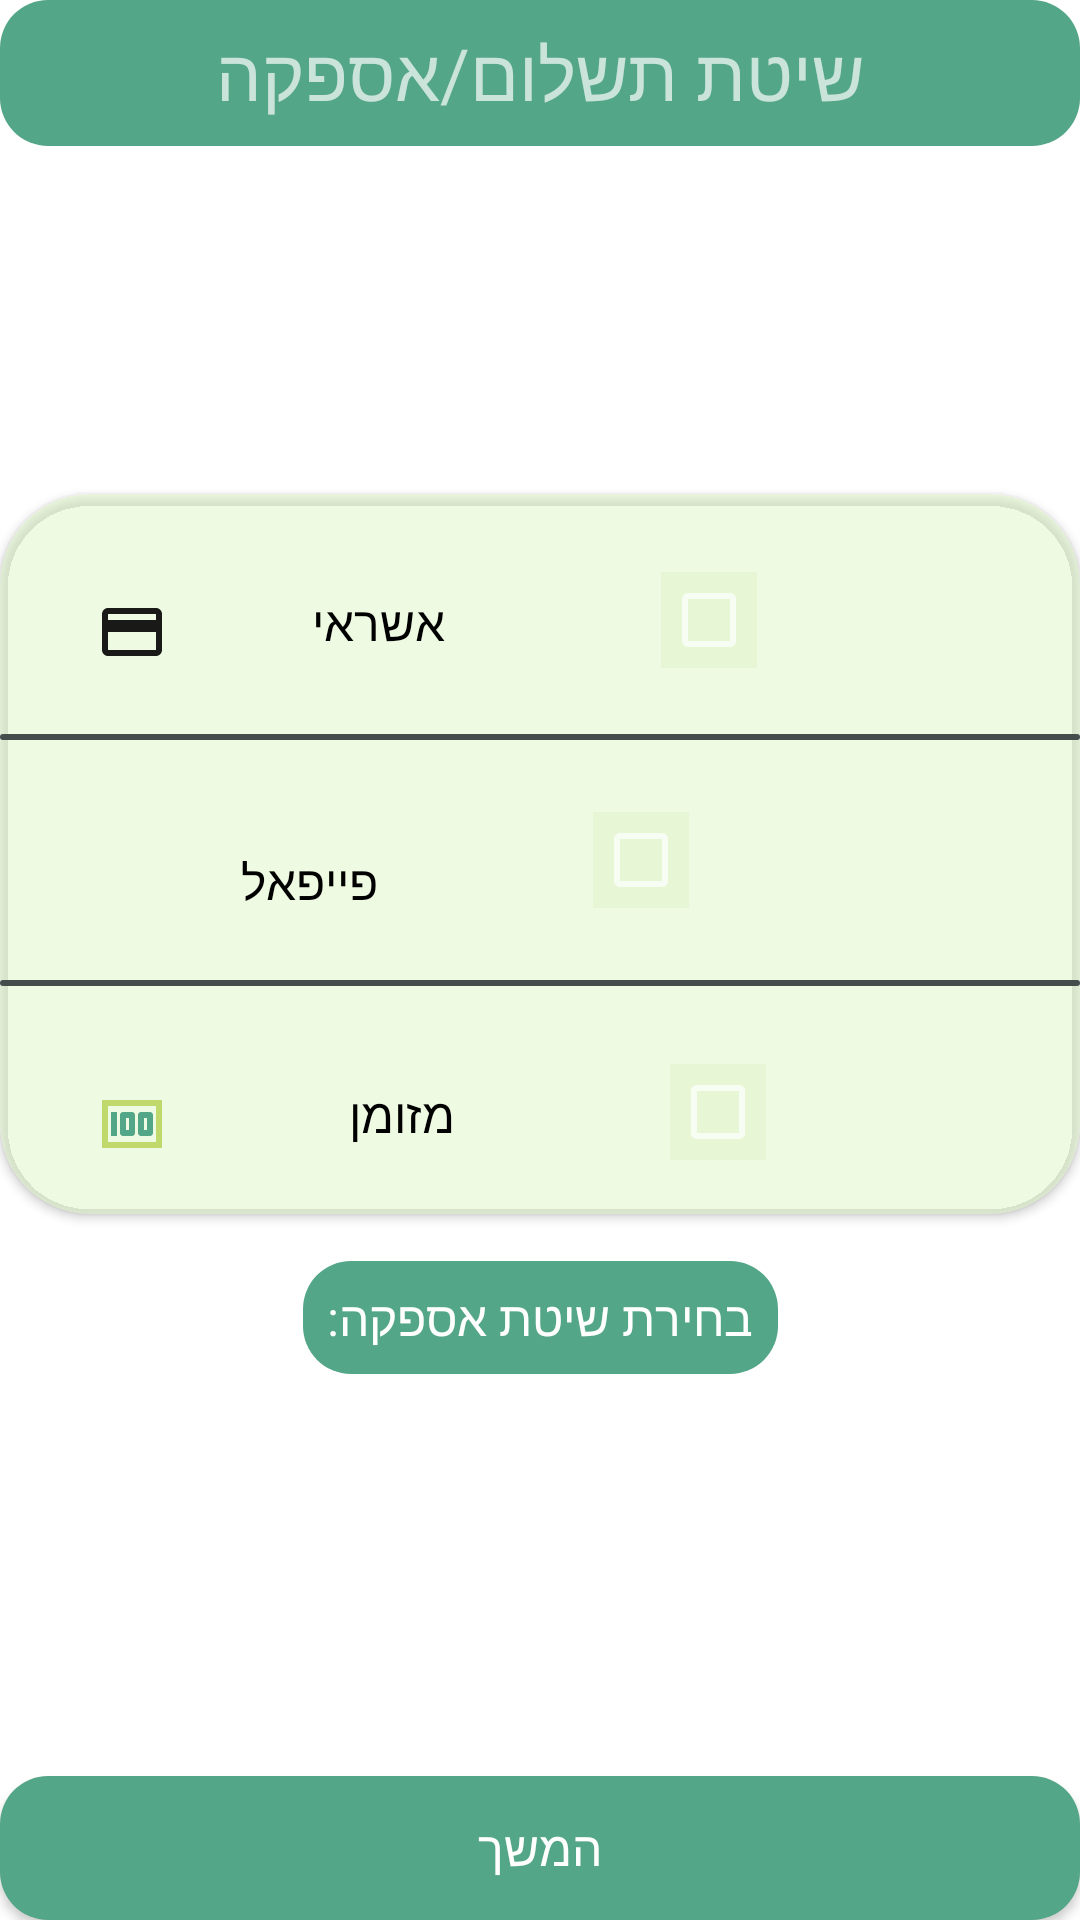

Point at icon controls on the screen. Image size 1080*1920, points as [x,y].
credit card: [132,632]
money: [132,1124]
